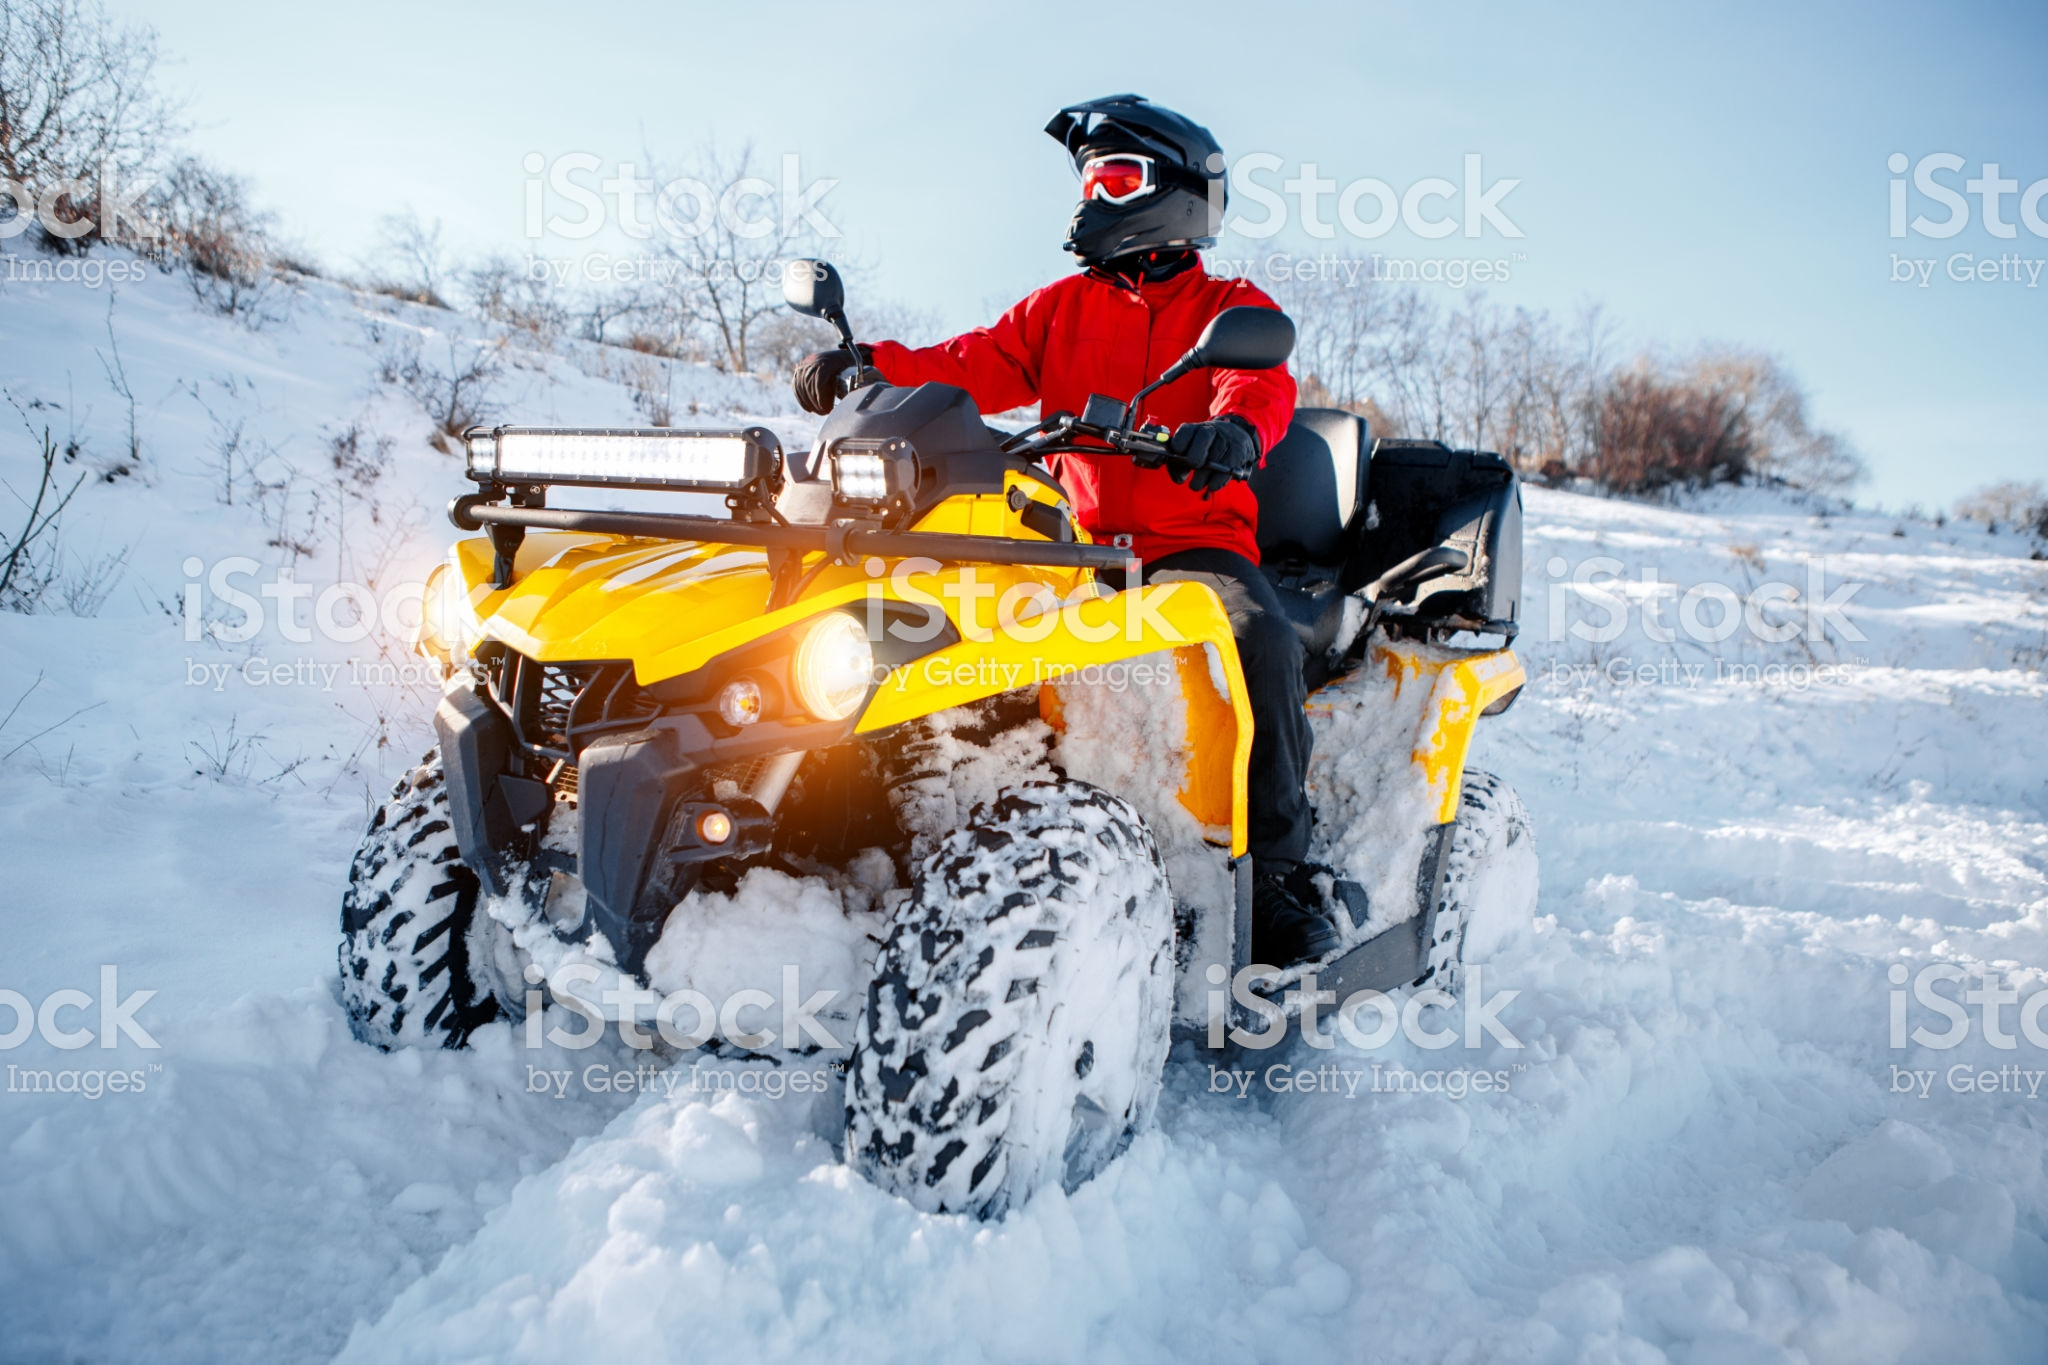helmet: (1029, 88, 1250, 294)
